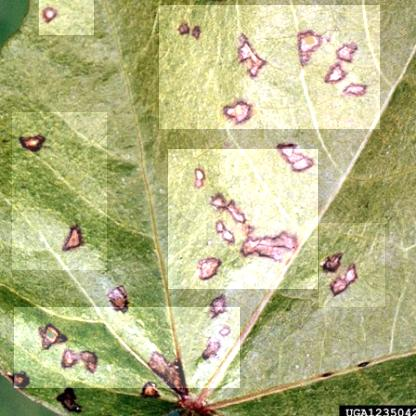black-spot: (159, 5, 380, 129), (168, 149, 318, 289), (15, 307, 240, 388), (12, 112, 107, 270), (320, 223, 386, 307), (39, 0, 94, 35)
